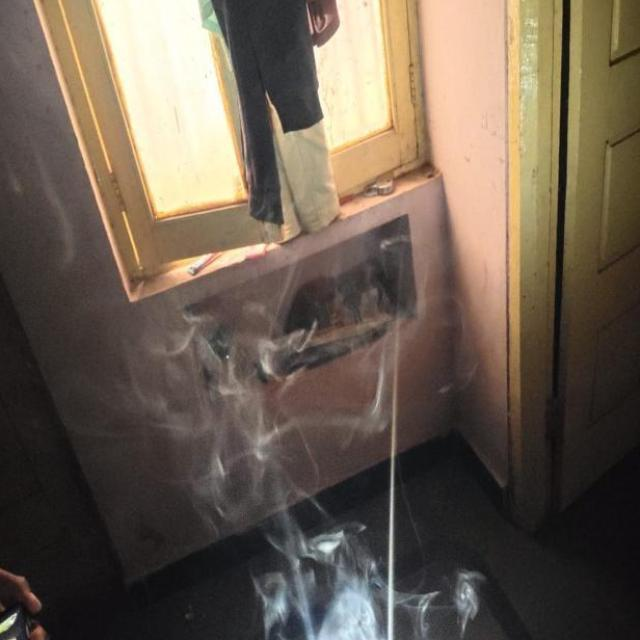fire: (105, 238, 482, 636)
